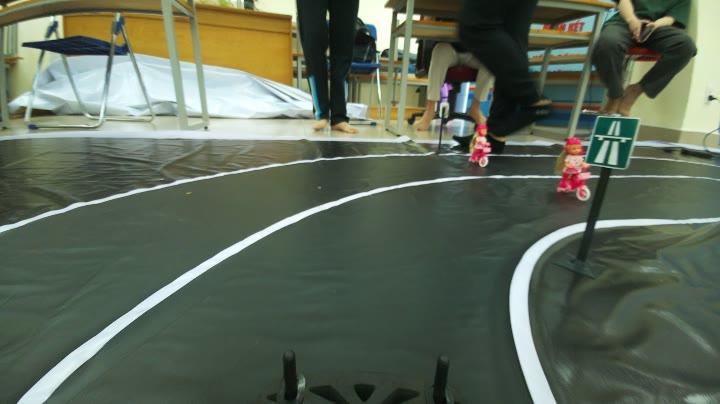highway_entry: (588, 113, 642, 176)
pedestrian: (552, 137, 593, 199)
